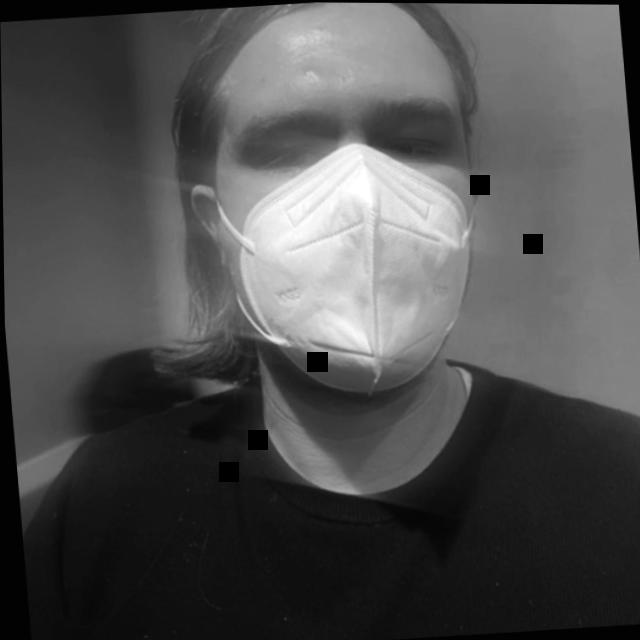Mask: (136, 1, 522, 411)
